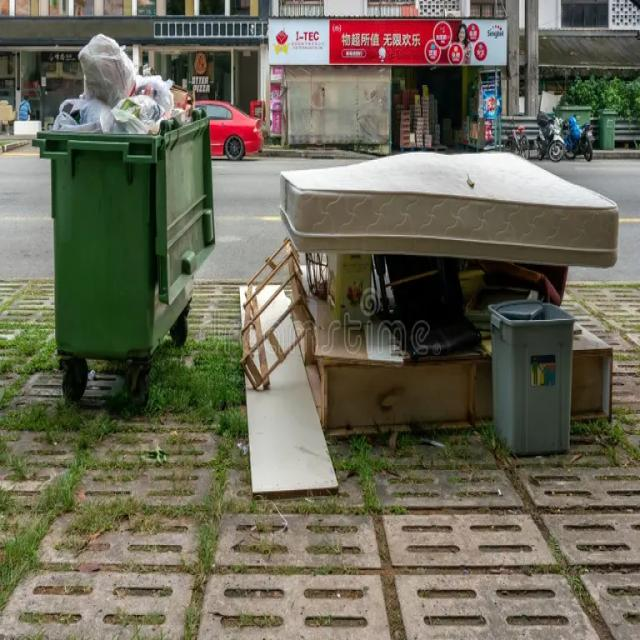bin_empty: (489, 300, 573, 454)
bin_full: (35, 42, 222, 407)
bulk_waste: (242, 260, 616, 477), (279, 166, 619, 264)
normal_waste: (51, 41, 177, 128)
